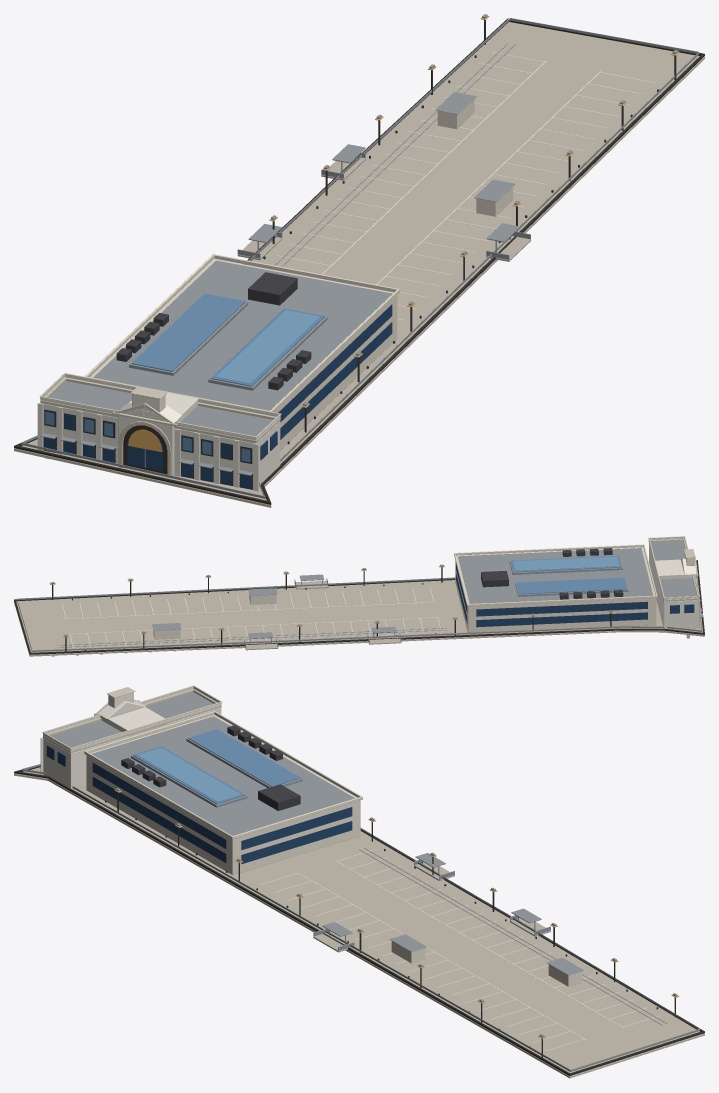
Rendered from pier-3.optimized.glb.
The picture shows the model from 3 angles, top to bottom: view 1: azimuth 30°, elevation 25°; view 2: azimuth 150°, elevation 25°; view 3: azimuth 270°, elevation 25°; orthographic projection. The views are drawn at different scales.
Parts seen in each view (by area): view 1: grp_Toy_conc, grp_Toy_steel, grp_Toy_cream, grp_Toy_ink, grp_Toy_sand, grp_Toy_stone, grp_Toy_glass, grp_Toy_glassl, grp_Toy_trim, monitor_glow, grp_Toy_roofd, grp_Toy_amber_Glow; view 2: grp_Toy_conc, grp_Toy_steel, grp_Toy_sand, grp_Toy_glass, grp_Toy_ink, grp_Toy_stone, grp_Toy_cream, grp_Toy_glassl, grp_Toy_trim, monitor_glow, grp_Toy_roofd; view 3: grp_Toy_conc, grp_Toy_steel, grp_Toy_sand, grp_Toy_glass, grp_Toy_cream, grp_Toy_stone, grp_Toy_ink, grp_Toy_glassl, grp_Toy_trim, grp_Toy_roofd, monitor_glow.
Boxes of the visible parts, box(x1,y1,x2,y2) form: grp_Toy_conc: box(22, 22, 699, 500); grp_Toy_steel: box(21, 14, 699, 498); grp_Toy_cream: box(37, 374, 280, 491); grp_Toy_ink: box(14, 18, 704, 504); grp_Toy_sand: box(85, 99, 513, 450); grp_Toy_stone: box(14, 56, 704, 507); grp_Toy_glass: box(44, 304, 392, 488); grp_Toy_glassl: box(131, 293, 325, 386); grp_Toy_trim: box(277, 52, 654, 320); monitor_glow: box(215, 310, 320, 383); grp_Toy_roofd: box(116, 272, 311, 390); grp_Toy_amber_Glow: box(128, 15, 679, 451); grp_Toy_conc: box(16, 576, 702, 652); grp_Toy_steel: box(17, 541, 703, 651); grp_Toy_sand: box(153, 544, 657, 639); grp_Toy_glass: box(456, 563, 694, 627); grp_Toy_ink: box(14, 560, 704, 654); grp_Toy_stone: box(14, 536, 704, 656); grp_Toy_cream: box(649, 537, 700, 629); grp_Toy_glassl: box(511, 555, 627, 594); grp_Toy_trim: box(62, 587, 441, 648); monitor_glow: box(513, 556, 619, 570); grp_Toy_roofd: box(481, 548, 623, 599); grp_Toy_conc: box(23, 767, 699, 1072); grp_Toy_steel: box(21, 692, 700, 1071); grp_Toy_sand: box(84, 711, 582, 986); grp_Toy_glass: box(46, 745, 352, 864); grp_Toy_cream: box(40, 687, 221, 789); grp_Toy_stone: box(14, 685, 704, 1078); grp_Toy_ink: box(14, 766, 704, 1075); grp_Toy_glassl: box(133, 729, 300, 804); grp_Toy_trim: box(260, 849, 660, 1050); grp_Toy_roofd: box(121, 725, 300, 810); monitor_glow: box(137, 747, 241, 801).
Bounding box in the file's own units: 196 × 18.5 × 161.
